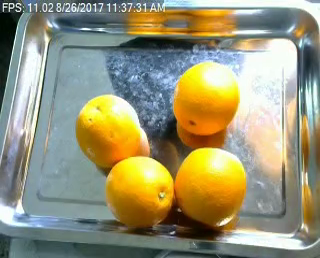Orange: (174, 146, 247, 226), (172, 60, 240, 136), (104, 155, 173, 227), (76, 92, 140, 168)
